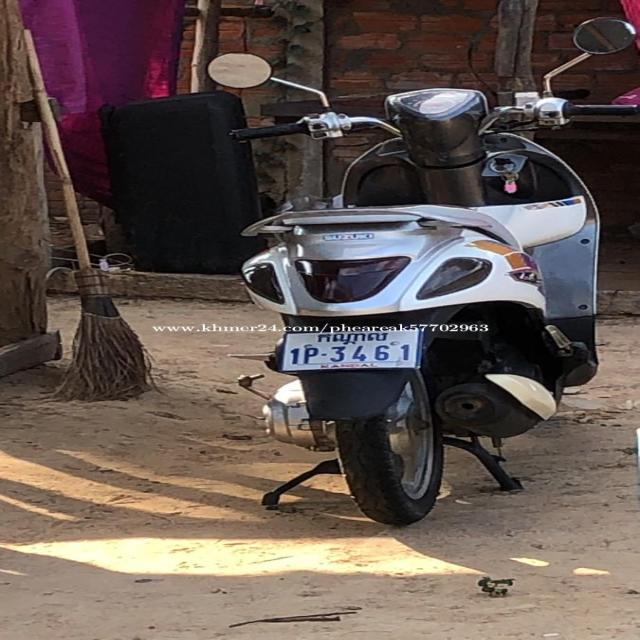Kandal: (317, 333, 388, 344)
